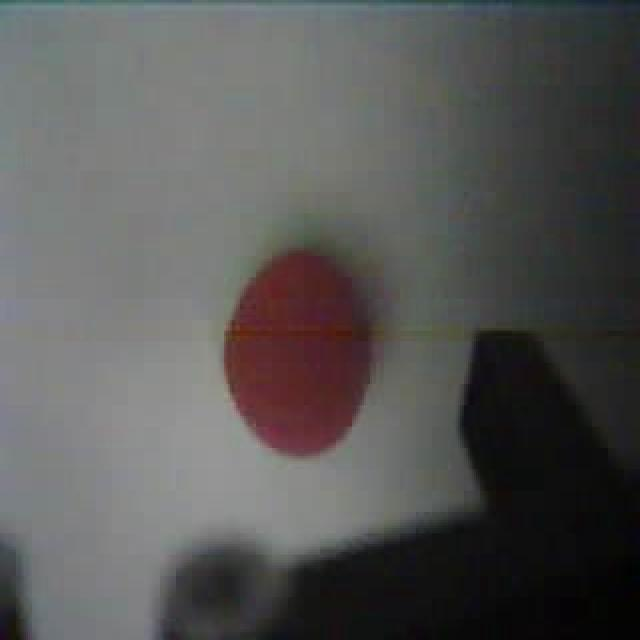red_ball: (220, 243, 378, 461)
